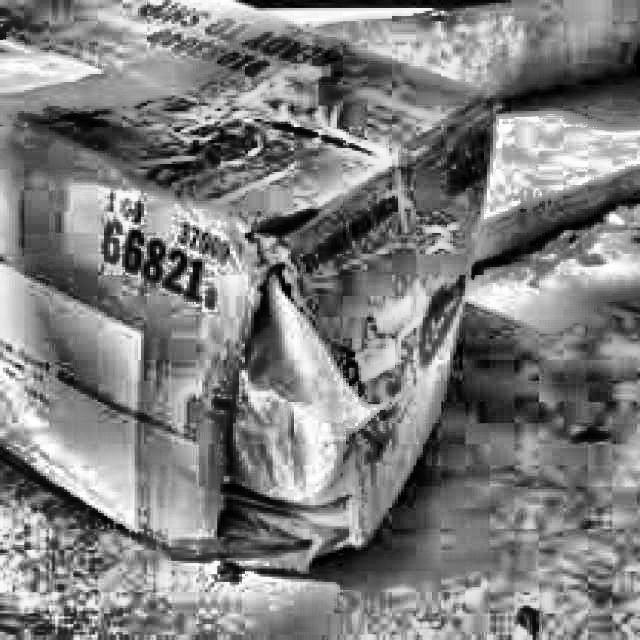box: (0, 0, 505, 586)
hole: (229, 210, 365, 576)
